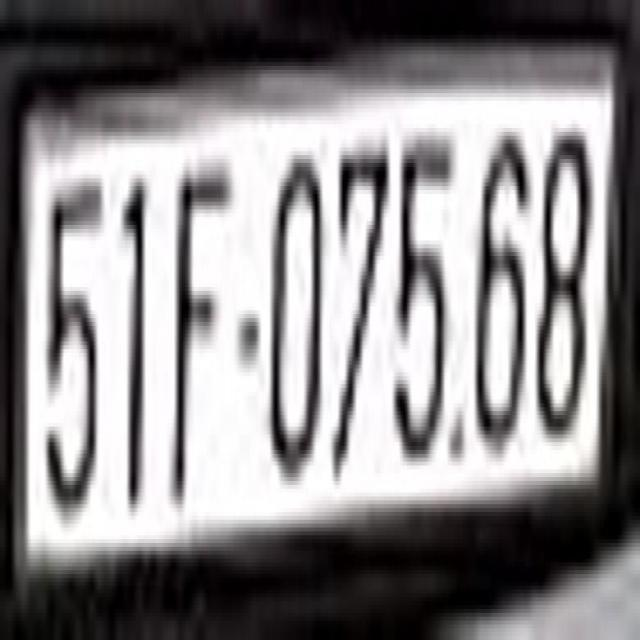0: (266, 144, 320, 492)
1: (118, 166, 147, 508)
5: (44, 175, 100, 512), (394, 120, 446, 466)
6: (470, 116, 524, 442)
7: (331, 128, 386, 485)
8: (538, 120, 588, 438)
F: (172, 158, 233, 501)
